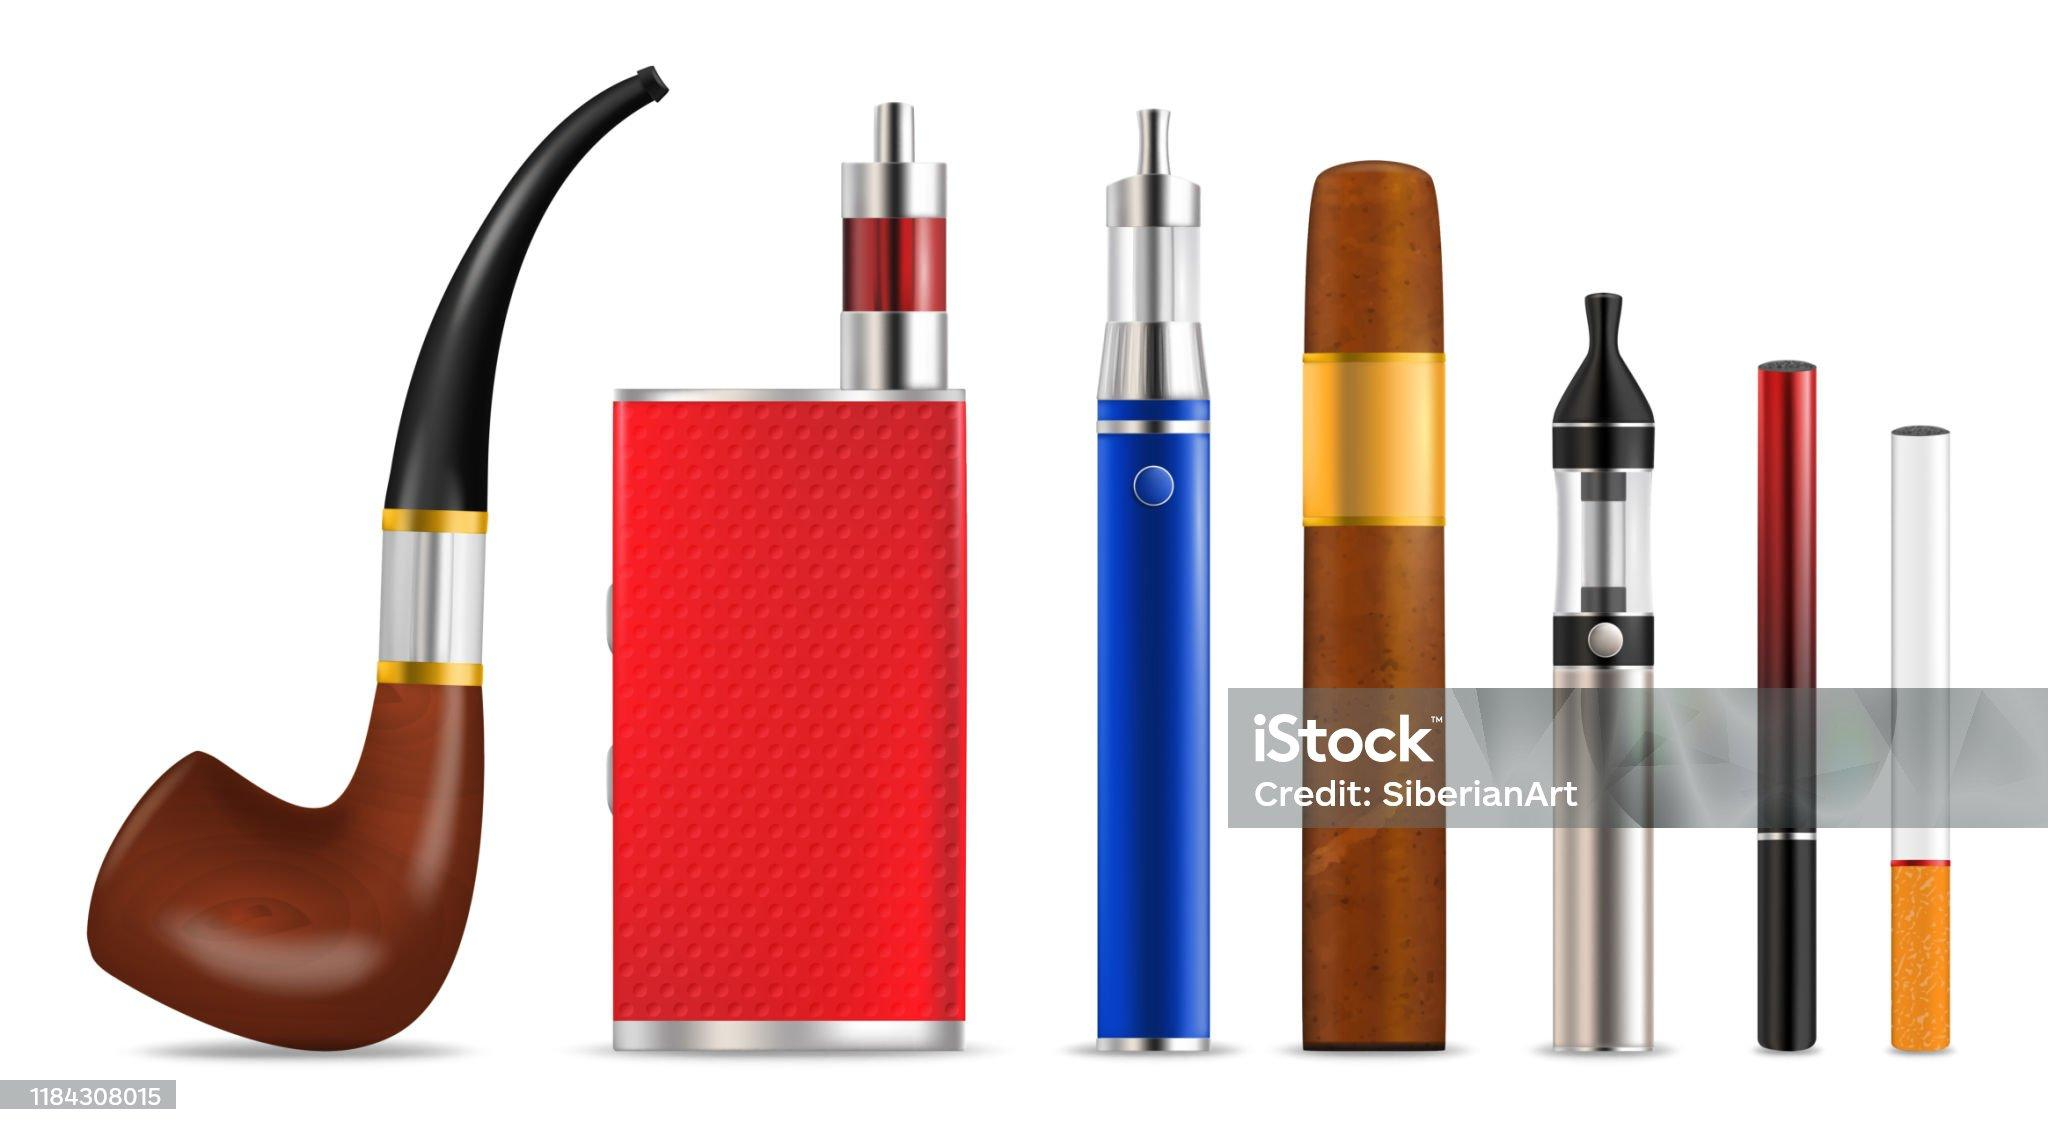Vape: (610, 102, 965, 1050), (1097, 109, 1209, 1049), (1552, 293, 1655, 1050)
cigarette: (1758, 361, 1816, 1050), (1891, 426, 1950, 1052)
trubka: (88, 69, 666, 1049)
